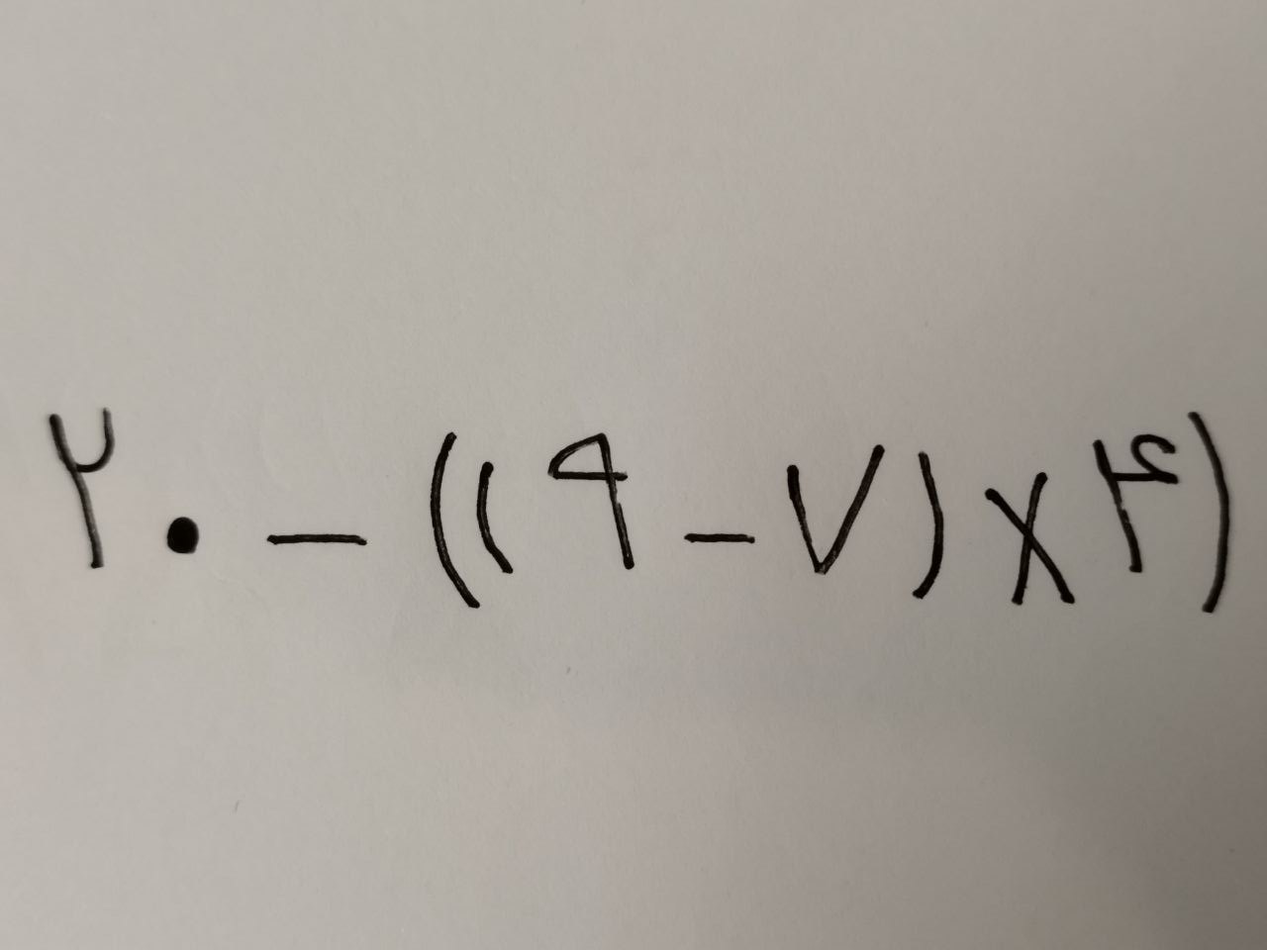character: (1047, 331, 1183, 432), (728, 324, 851, 428), (64, 306, 157, 426), (572, 323, 644, 458), (1214, 337, 1261, 450), (634, 346, 689, 433), (351, 399, 494, 412), (221, 386, 266, 417), (909, 398, 1011, 411)
